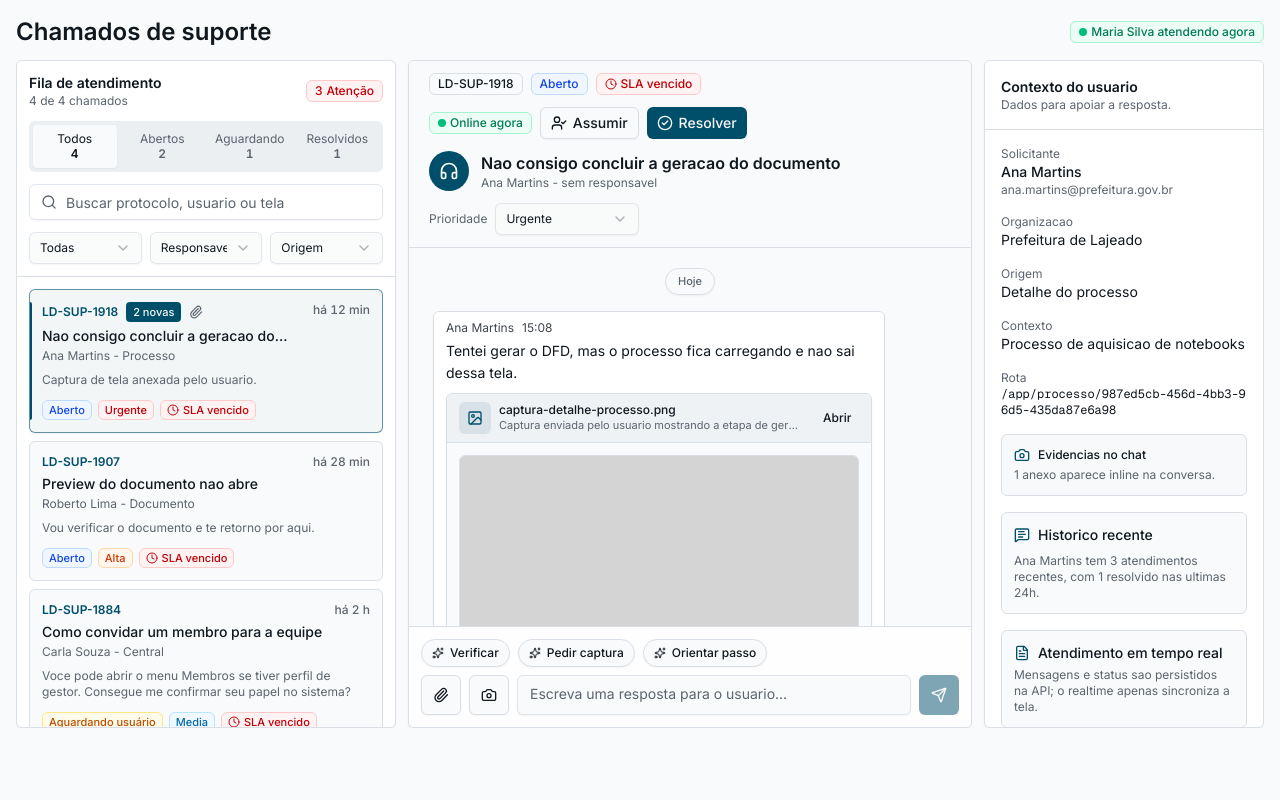
Test: AdminSupportTicketsPage › filters tickets and shows an empty state without stale details
This screenshot has width=1280, height=800.
expect the text "LD-SUP-1918" below "4 de 4 chamados" is shown: met, box x1=42 y1=304 x2=118 y2=319
Type "sem resultado" into the field labelled "Buscar" at (206, 202), box x1=29 y1=184 x2=383 y2=220
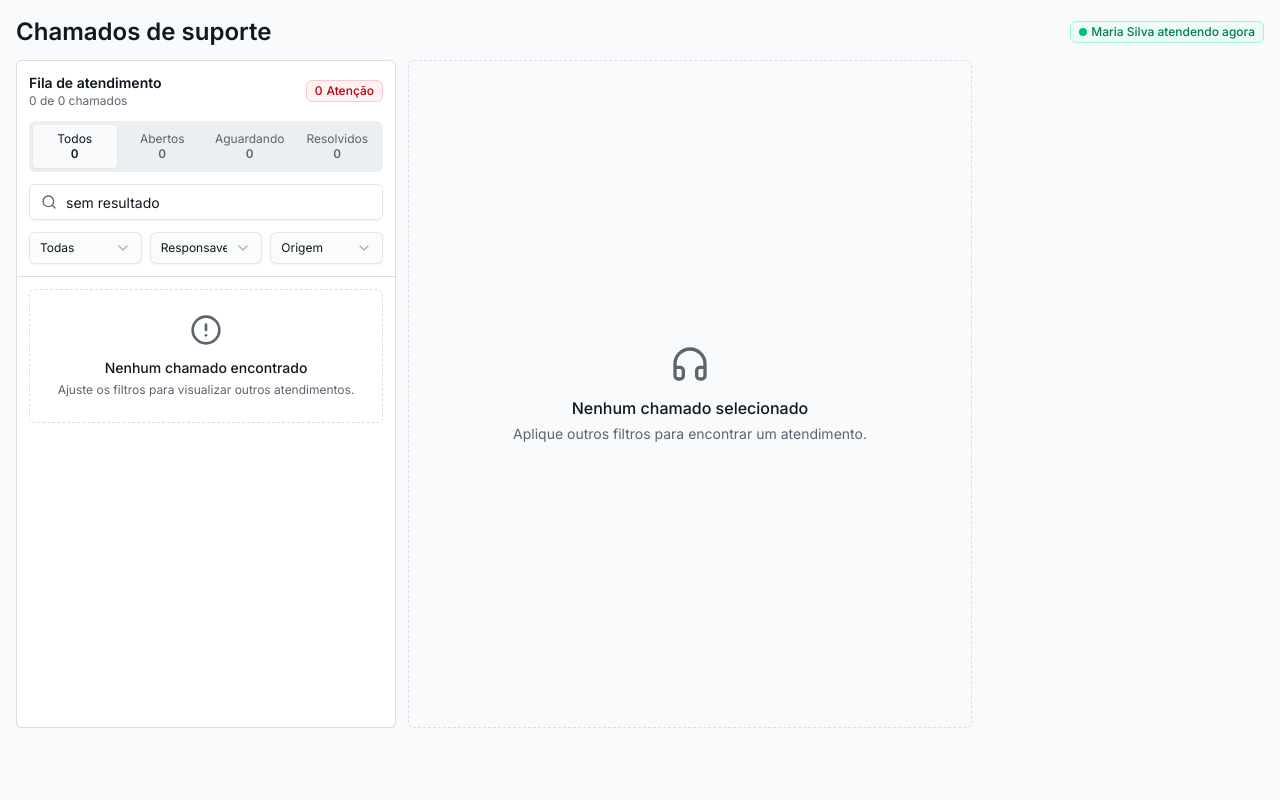
expect the text "Nenhum chamado encontrado" is shown: met, box x1=105 y1=359 x2=307 y2=376
expect the text "Nenhum chamado selecionado" is shown: met, box x1=572 y1=398 x2=808 y2=418
expect the text "Detalhe do processo" is gone: met
